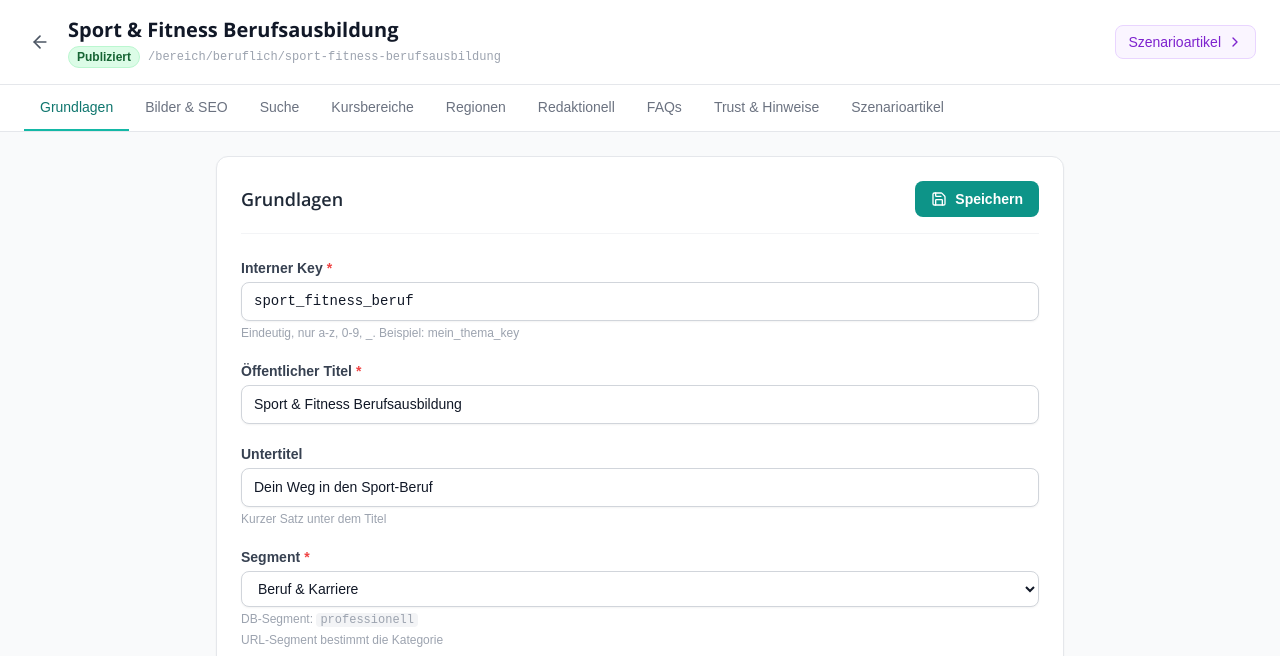
Scenario: Phase 8.6 — Admin-Editor: predefined_searches › Tabwechsel verliert keine predefined_searches
This screenshot has width=1280, height=656.
Click the button "Suche". click: (280, 108)
box: [244, 85, 315, 131]
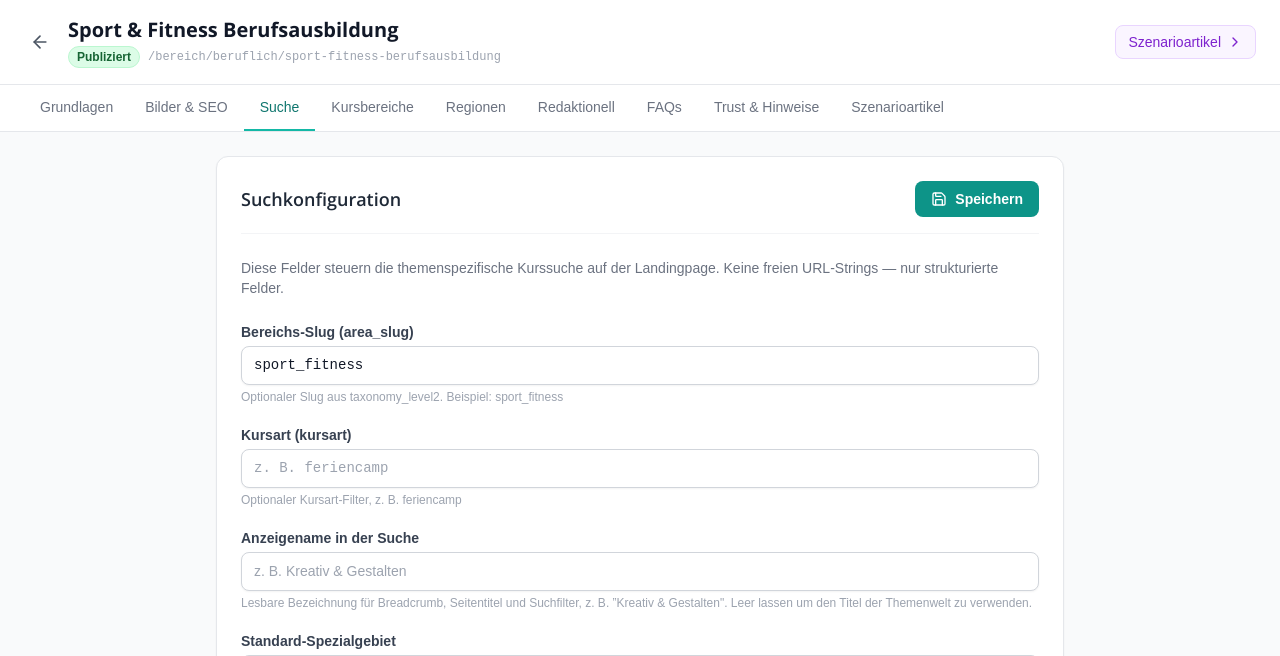
Click the button "FAQs". click: (664, 108)
box: [631, 85, 698, 131]
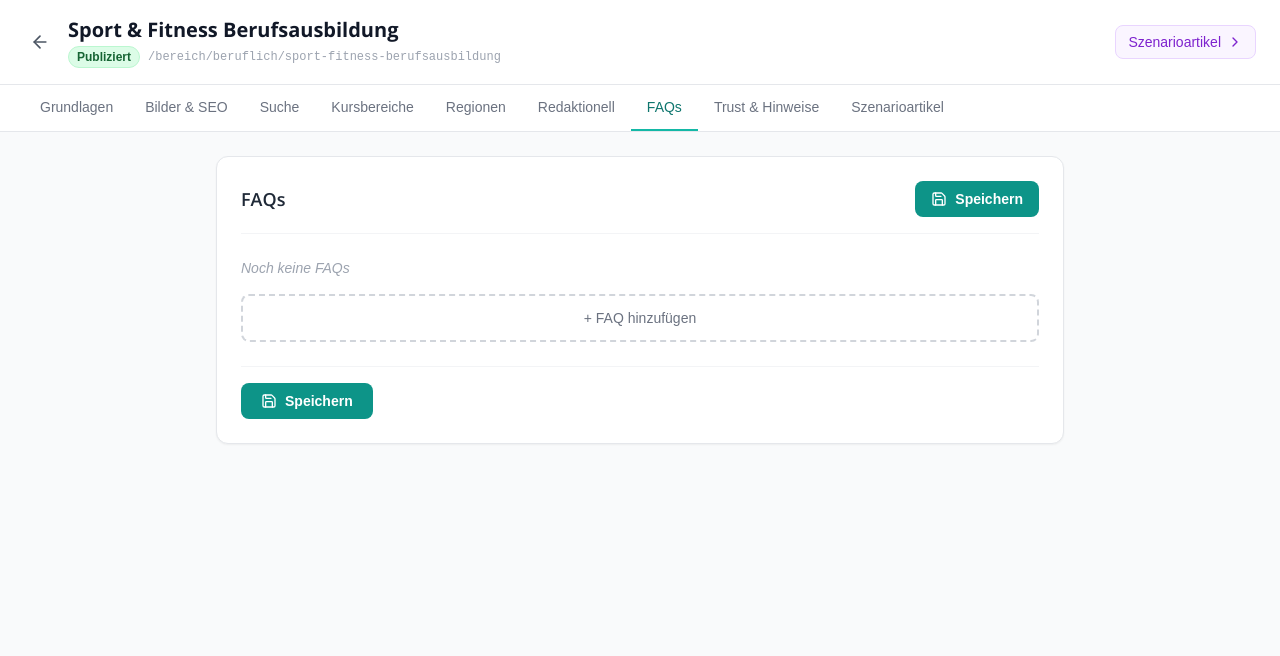
expect the field showing "Fitnesstrainer Basiskurs" is not shown: met
Click the button "Suche". click: (280, 108)
box: [244, 85, 315, 131]
(page scrolled)
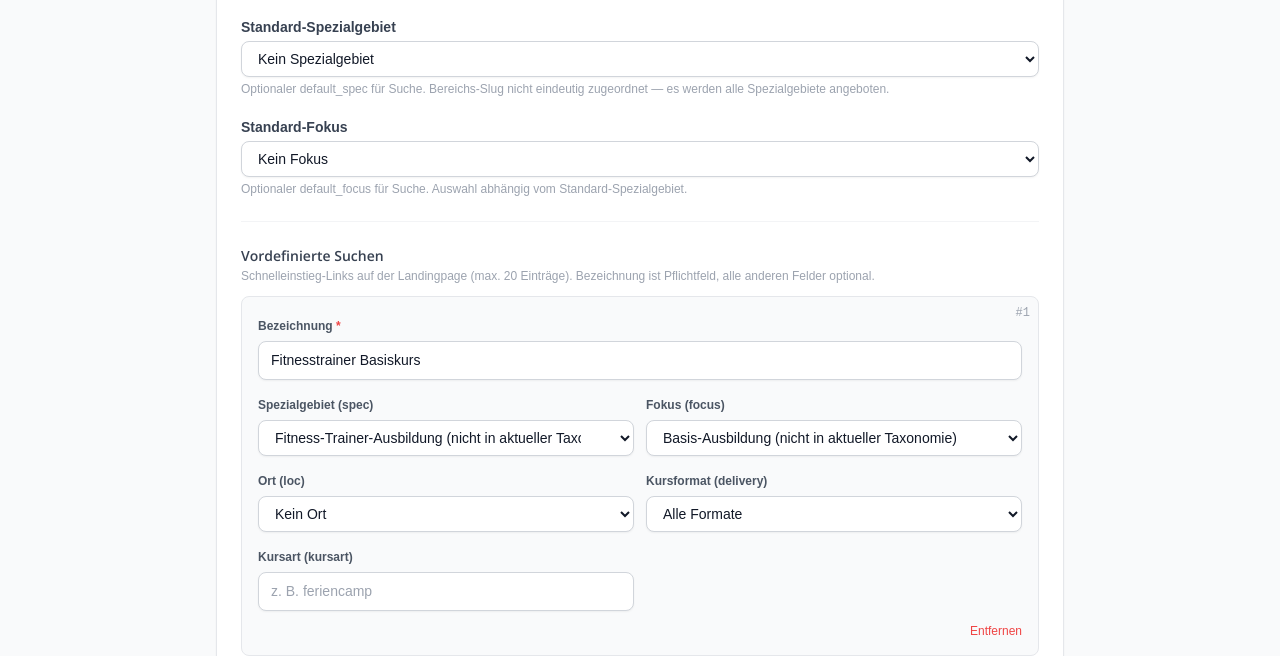
expect the 1st field showing "Fitnesstrainer Basiskurs" is shown: met, box [258, 341, 1022, 380]
